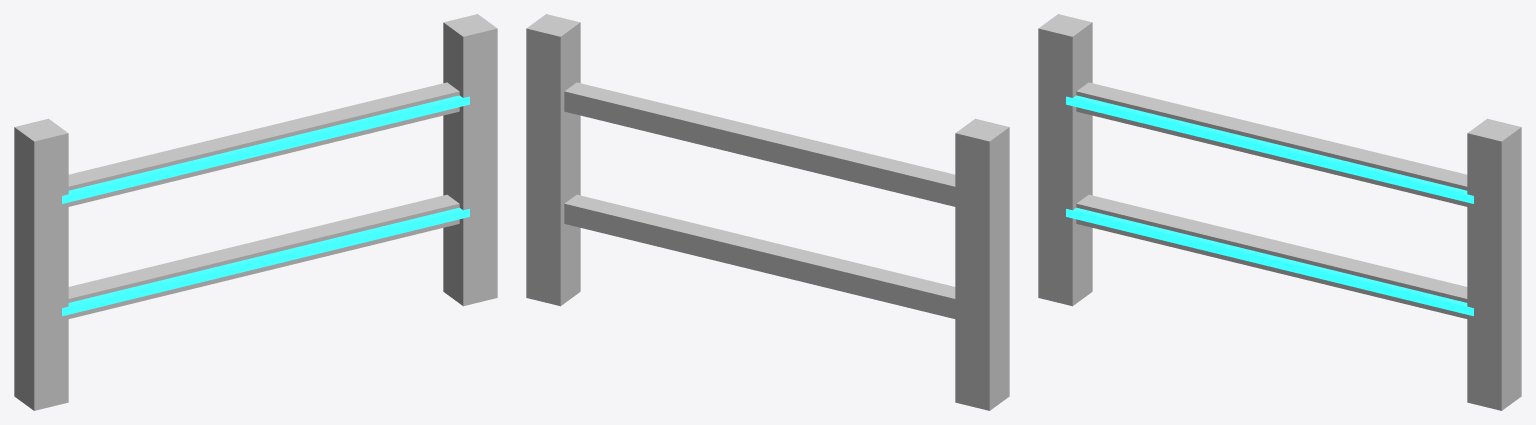
3 renders of one model, left to right at view 1: azimuth 30°, elevation 25°; view 2: azimuth 150°, elevation 25°; view 3: azimuth 330°, elevation 25°, orthographic.
Visible parts, largest first — view 1: Neon_FenceStraight_Simple; view 2: Neon_FenceStraight_Simple; view 3: Neon_FenceStraight_Simple.
Boxes of the visible parts, x1=… form: Neon_FenceStraight_Simple: x1=14, y1=14, x2=497, y2=410; Neon_FenceStraight_Simple: x1=526, y1=14, x2=1009, y2=410; Neon_FenceStraight_Simple: x1=1038, y1=14, x2=1521, y2=410.
Size of the model in its own units: 2.16 by 1.2 by 0.1625.
